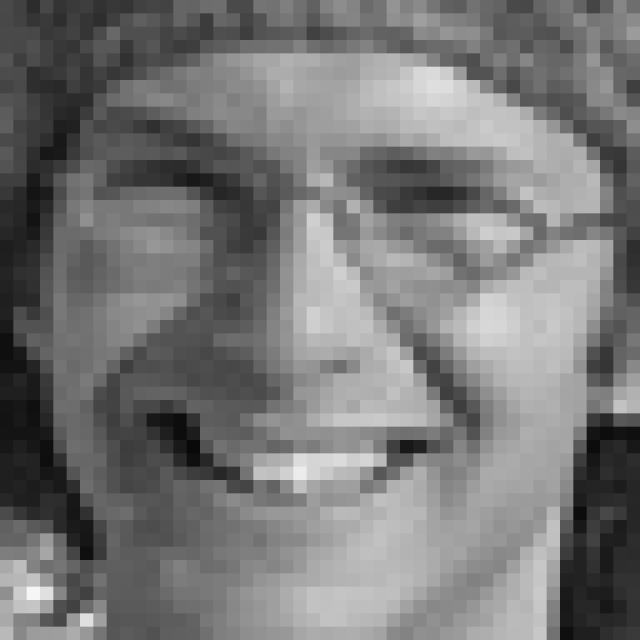happy: (87, 104, 554, 546)
